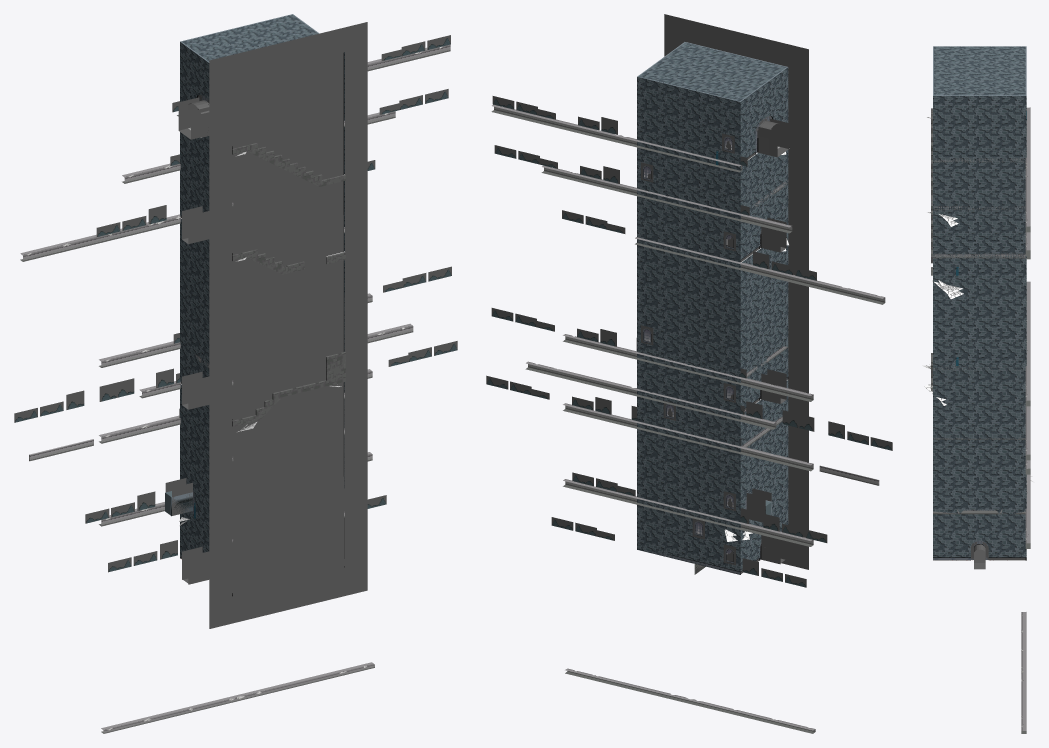
The model's file is gon_05_bake_split.dae.
3 views of the same model, side by side, from view 1: azimuth 30°, elevation 25°; view 2: azimuth 150°, elevation 25°; view 3: azimuth 270°, elevation 25° (orthographic). The views are drawn at different scales.
Parts seen in each view (by area): view 1: a_kabemae, kuro5, polySurface205_q00139_part0, pCube112_q00137_part0, yuka2, polySurface204_q00138_part0, pCube151_q00129_part0, polySurface543_q00196, s_kabeyoko02_part0, pCube151_q00134_part0, polySurface261_q00237, polySurface84_q00140_part0 (+9 smaller); view 2: polySurface825_q00259, kuro5, polySurface205_q00139_part0, yuka2, pCube112_q00137_part0, polySurface204_q00138_part0, s_kabeyoko02_part0, pCube151_q00132_part0, pCube151_q00133_part0, pCube151_q00131_part0, pCube151_q00135_part0, pCube151_q00134_part0 (+6 smaller); view 3: polySurface85_q00141_part0, yuka2, pCube151_q00129_part0, pCube151_q00136_part0, pCube151_q00133_part0, polySurface817_q00115, pCube151_q00130_part0, pCube151_q00132_part0, polySurface817_q00121, polySurface817_q00112, polySurface85_q00141_part1, a_kabeyoko_03.
Boxes of the visible parts, x1,y1,x2,y2 form: a_kabemae: (232,53,344,595); kuro5: (209,22,367,628); polySurface205_q00139_part0: (180,218,209,380); pCube112_q00137_part0: (165,384,209,524); yuka2: (180,14,319,62); polySurface204_q00138_part0: (180,132,209,215); pCube151_q00129_part0: (101,662,374,733); polySurface543_q00196: (232,352,345,426); s_kabeyoko02_part0: (180,42,209,101); pCube151_q00134_part0: (20,214,180,261); polySurface261_q00237: (232,143,345,186); polySurface84_q00140_part0: (180,511,209,555); polySurface825_q00259: (637,77,740,574); kuro5: (664,14,808,569); polySurface205_q00139_part0: (740,233,788,407); yuka2: (637,42,787,101); pCube112_q00137_part0: (740,380,788,524); polySurface204_q00138_part0: (740,150,788,259); s_kabeyoko02_part0: (740,67,788,157); pCube151_q00132_part0: (525,361,776,429); pCube151_q00133_part0: (563,334,813,401); pCube151_q00131_part0: (563,403,813,471); pCube151_q00135_part0: (541,165,792,233); pCube151_q00134_part0: (635,237,885,304); polySurface85_q00141_part0: (933,96,1026,557); yuka2: (933,46,1026,95); pCube151_q00129_part0: (1021,612,1026,733); pCube151_q00136_part0: (1025,107,1030,232); pCube151_q00133_part0: (1025,281,1030,406); polySurface817_q00115: (933,253,1025,258); pCube151_q00130_part0: (1025,474,1030,548); pCube151_q00132_part0: (1025,406,1030,460); polySurface817_q00121: (933,509,1025,514); polySurface817_q00112: (933,158,1024,162); polySurface85_q00141_part1: (933,541,1025,560); a_kabeyoko_03: (971,542,1025,560).
Bounding box in the file's own units: 196 × 294 × 48.19.
